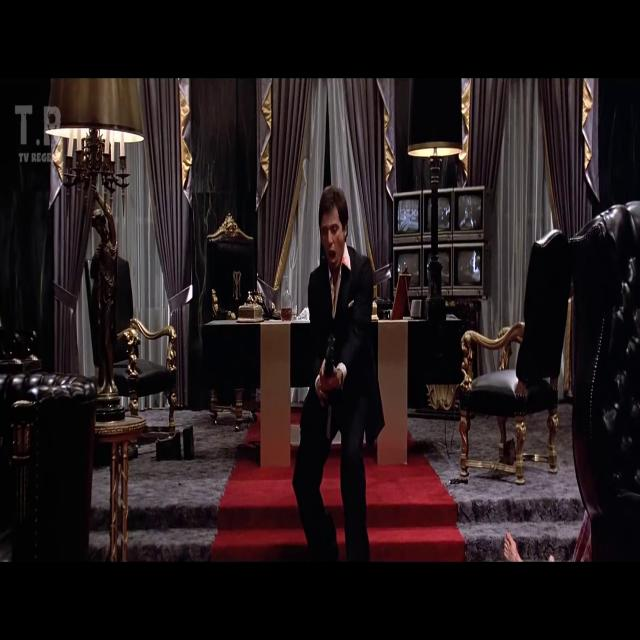long weapon: (300, 314, 360, 458)
